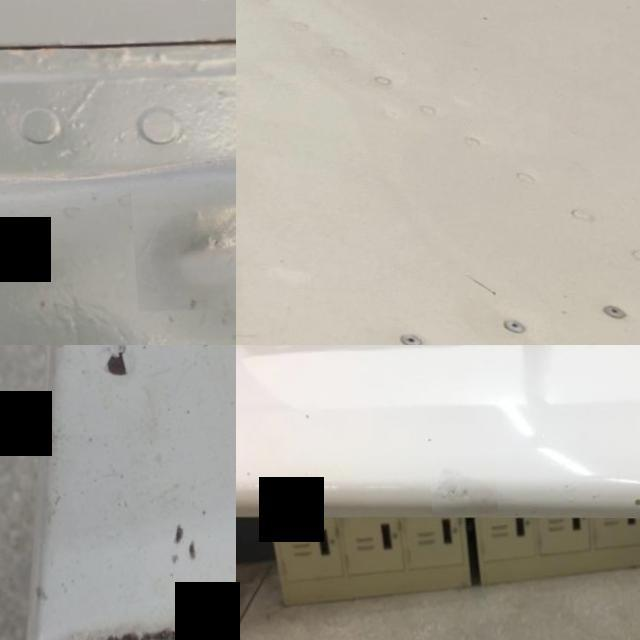Crack: (424, 466, 493, 518), (85, 345, 144, 396), (624, 488, 640, 524), (298, 500, 314, 512)
Dent: (125, 182, 236, 314)
